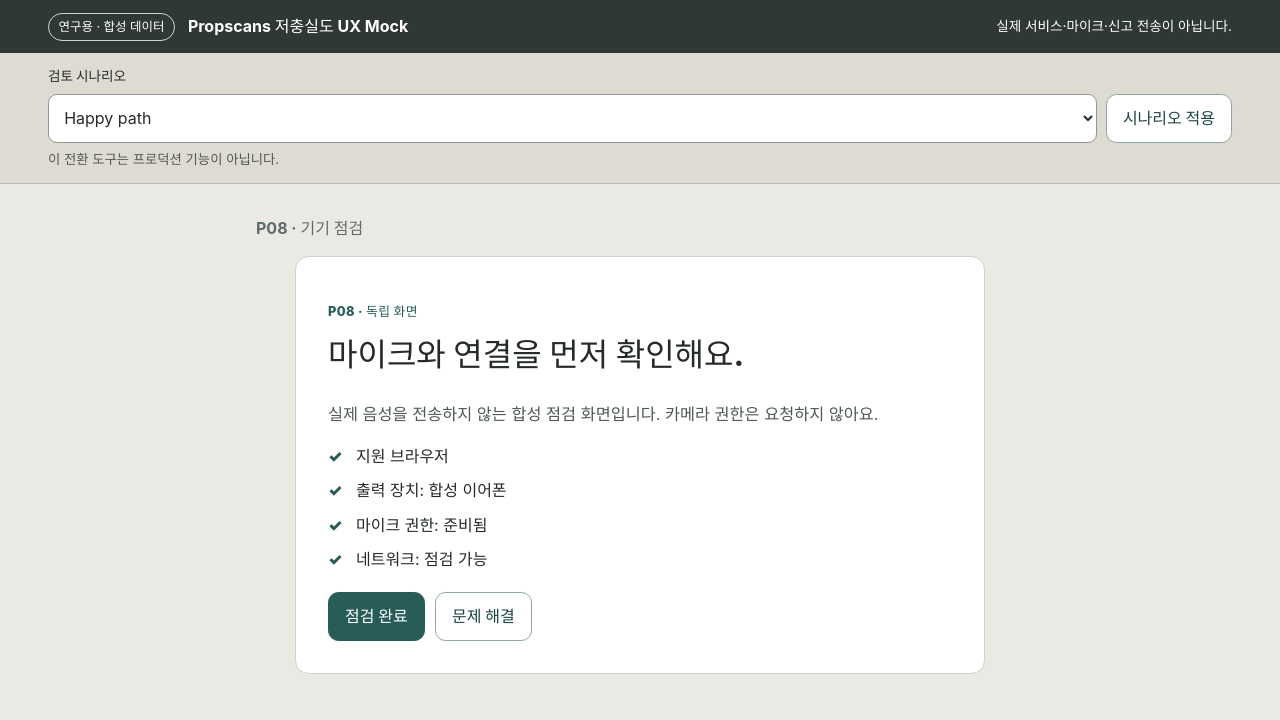
Test case: Propscans UX mock › does not expose peer submission counts in initial interest
Select "초기 관심 미제출 만료" in the dropdown labelled "검토 시나리오" at (573, 118), box [48,94,1097,143]
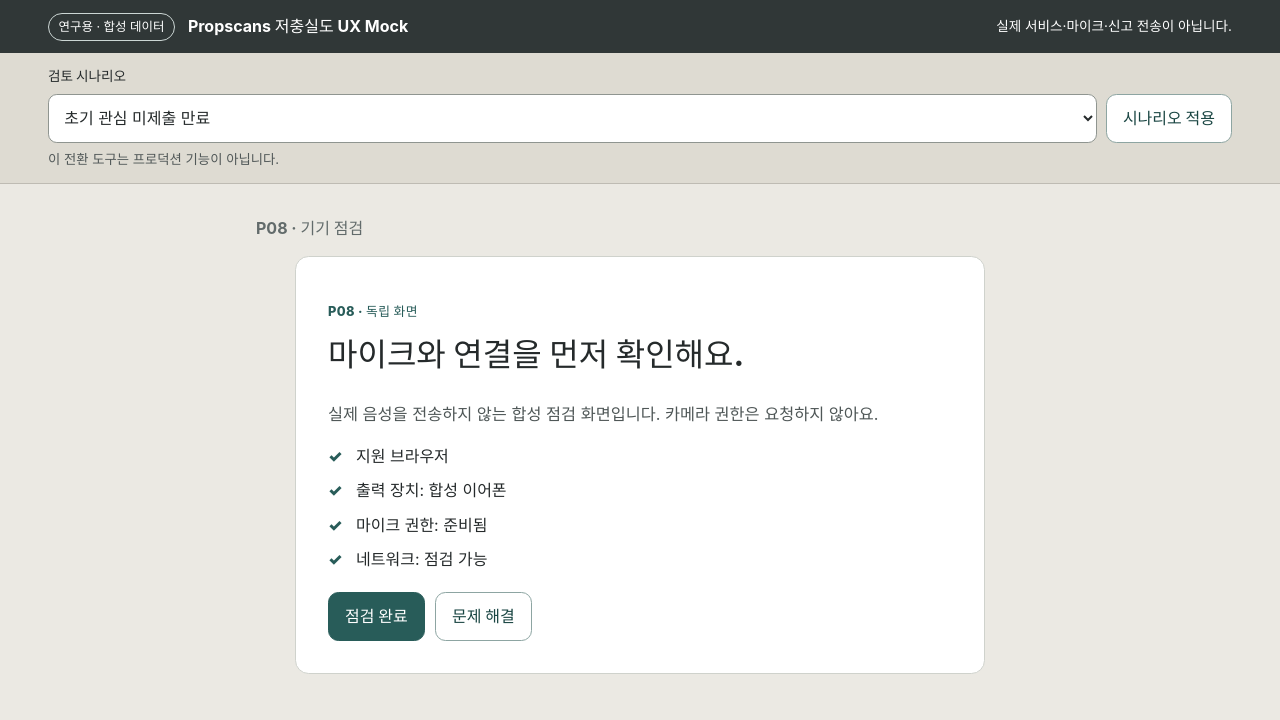
Click the button "시나리오 적용" at (1169, 118), box [1106,94,1232,143]
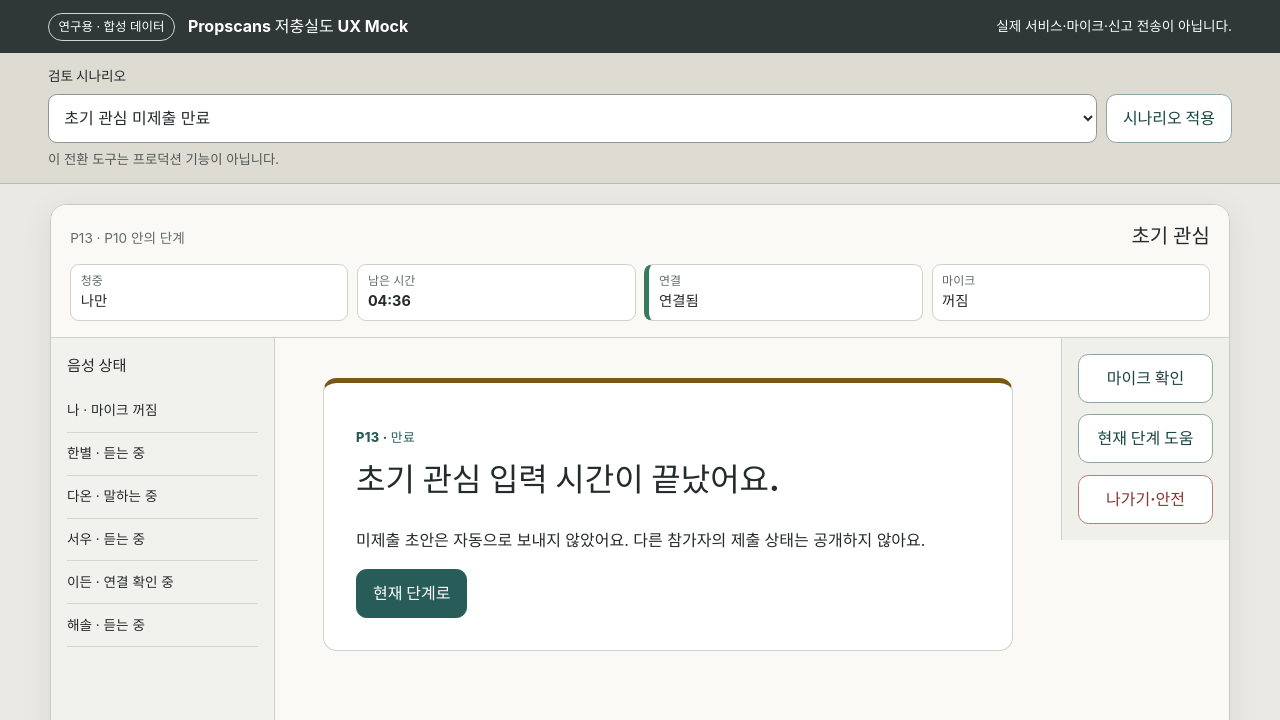
Result: the text "미제출 초안은 자동으로 보내지 않았어요. 다른 참가자의 제출 상태는 공개하지 않아요." is shown at [356,528,980,553]
